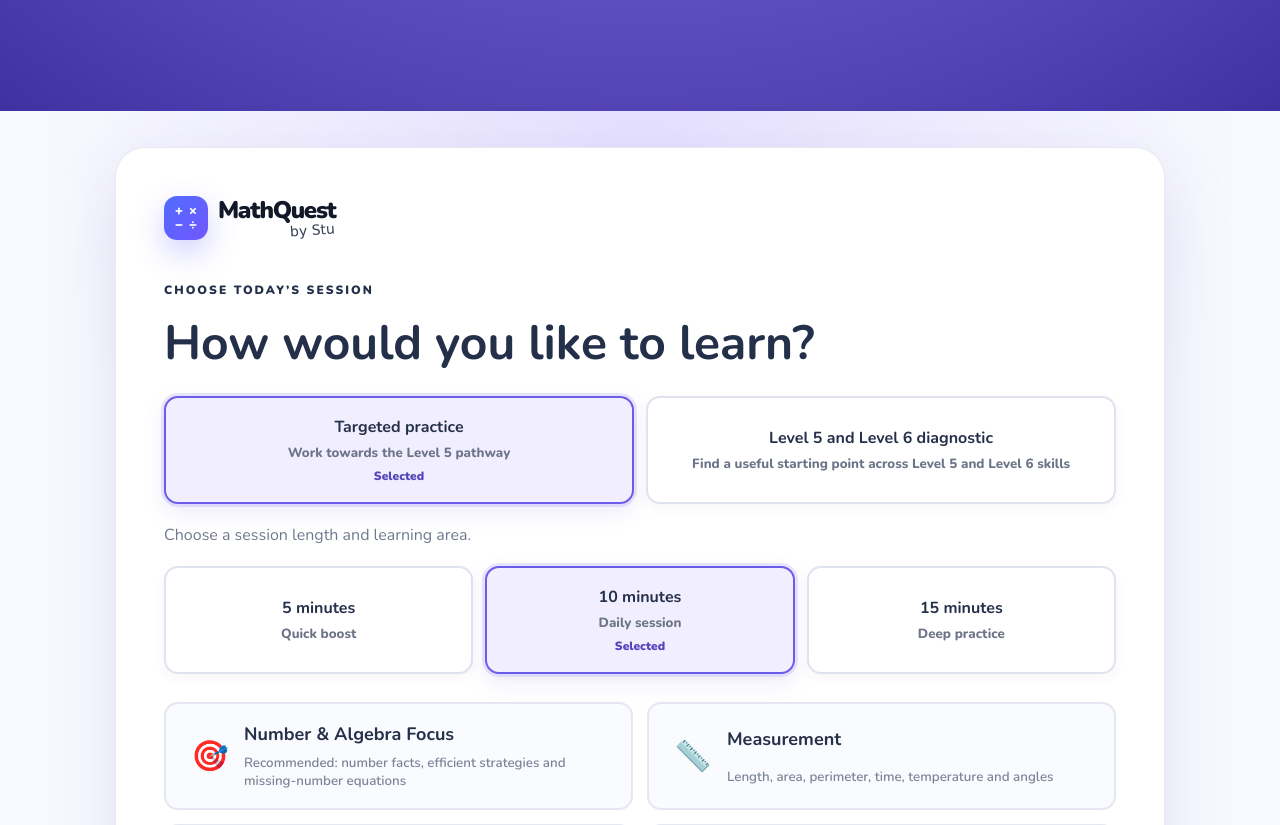
Test case: MathQuest 0.27 learner and parent-test interactions › presents the diagnostic as Level 5 and Level 6 placement evidence only
(page scrolled)
Click the button "Level 5 and Level 6 diagnostic": [881, 450] box [646,396,1116,504]
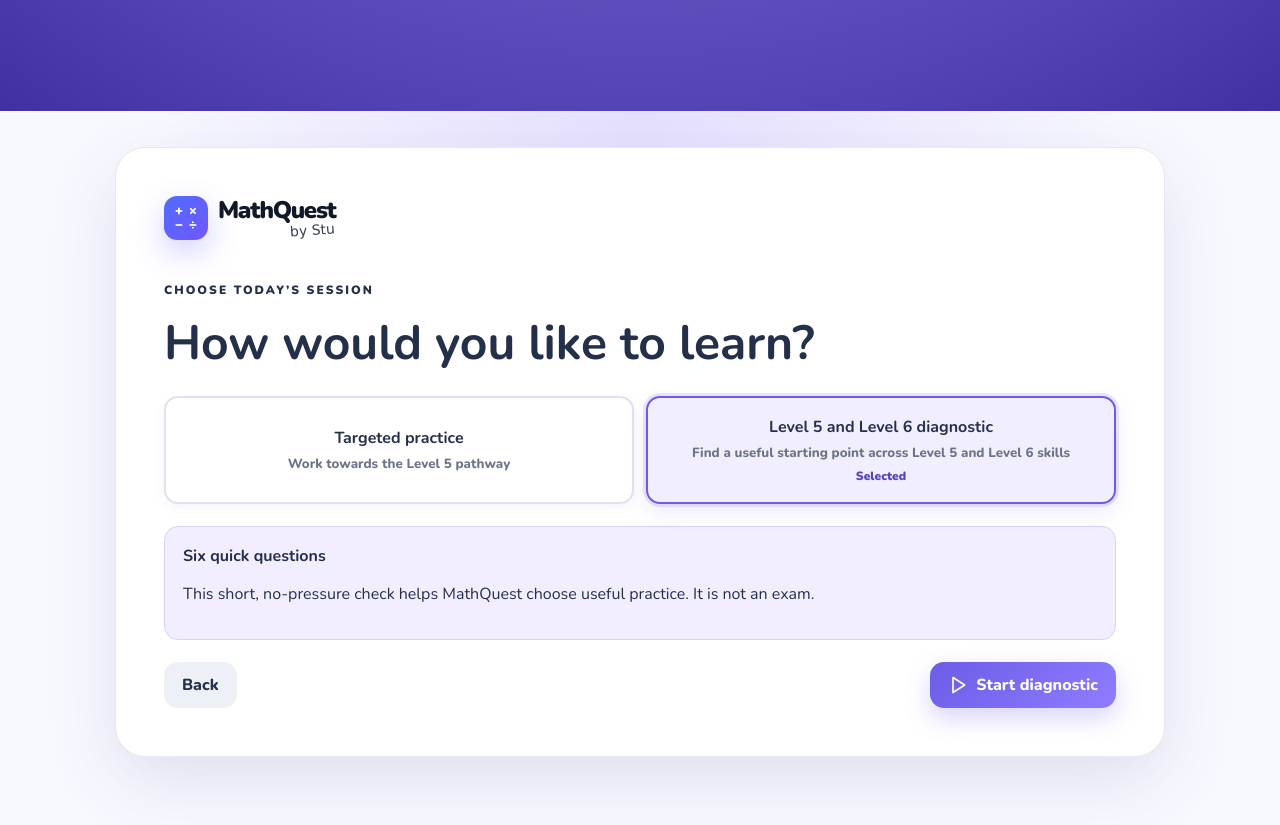
Check: the text "Six quick questions" is shown, box [183,545,326,567]
Check: the text "not an exam" is shown, box [183,583,814,605]
